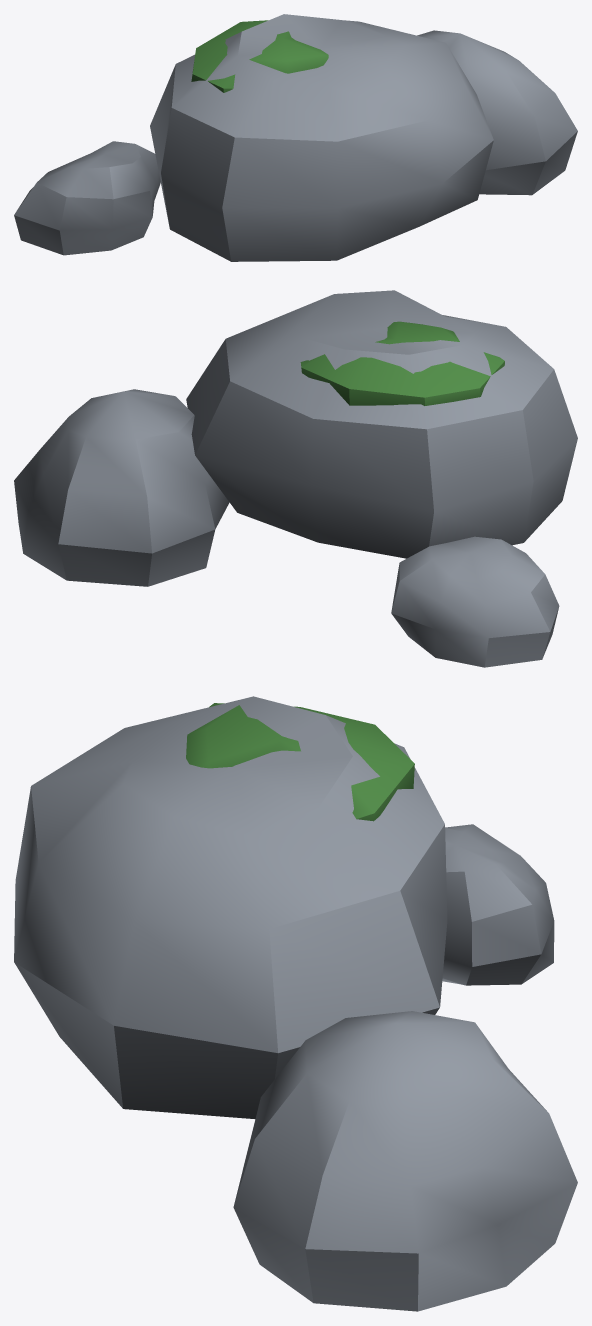
File: rock_b.glb
3 renders of one model, top to bottom at view 1: azimuth 30°, elevation 25°; view 2: azimuth 150°, elevation 25°; view 3: azimuth 270°, elevation 25°, orthographic. The views are drawn at different scales.
Visible parts, largest first — view 1: Rock; view 2: Rock; view 3: Rock.
Boxes of the visible parts, x1,y1,x2,y2 form: Rock: (14,14,577,261); Rock: (14,290,577,667); Rock: (14,696,577,1311).
Bounding box in the file's own units: 0.5928 × 0.2364 × 0.3551.
Materials: 1 (1 with a texture image).
